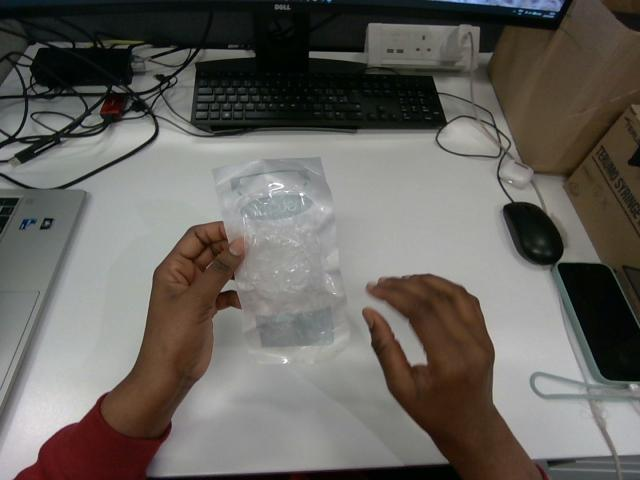gallipot: (213, 158, 349, 363)
